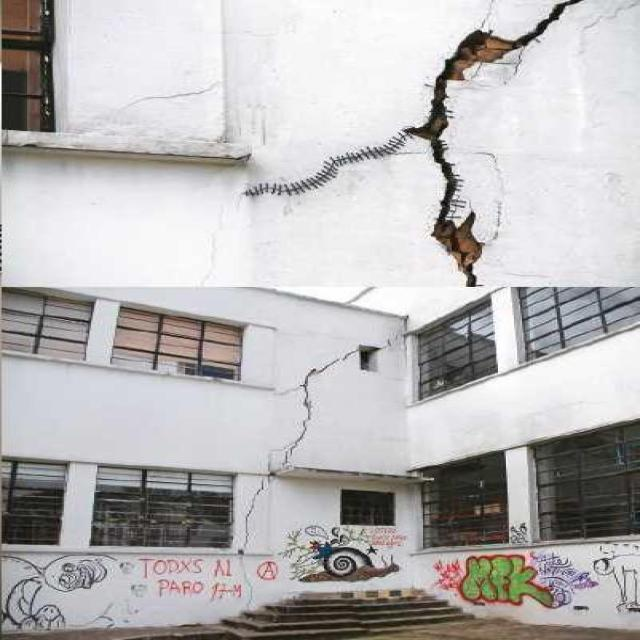crack: (397, 0, 583, 279), (239, 346, 363, 555)
